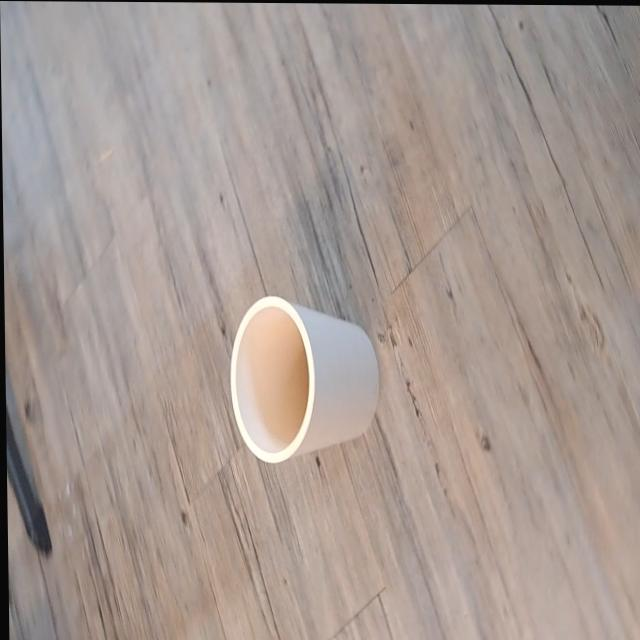CORAL: (223, 285, 384, 470)
